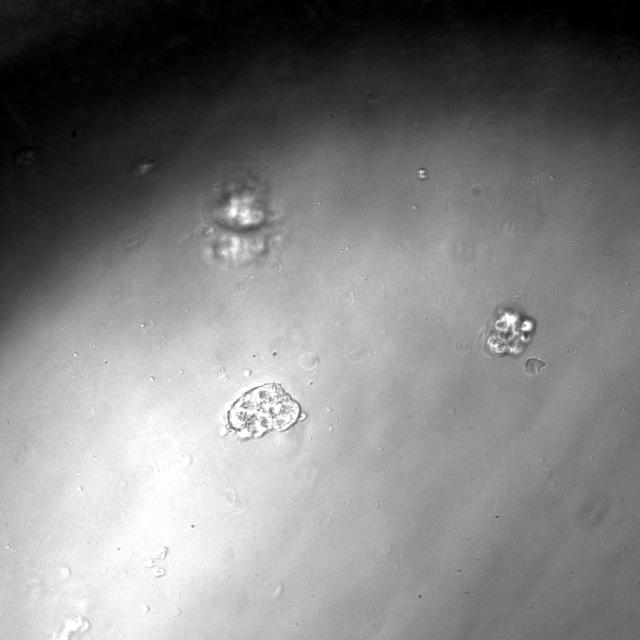organoid: (196, 170, 282, 269), (226, 382, 300, 438), (482, 307, 535, 356)
